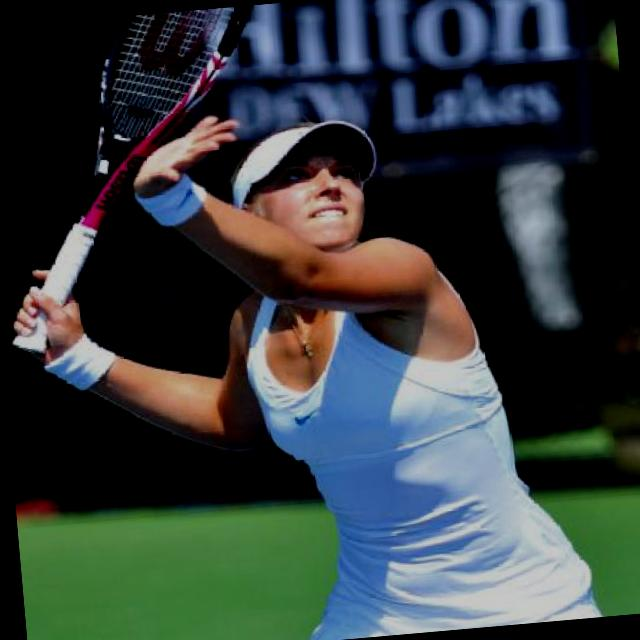Person: (0, 86, 598, 640)
